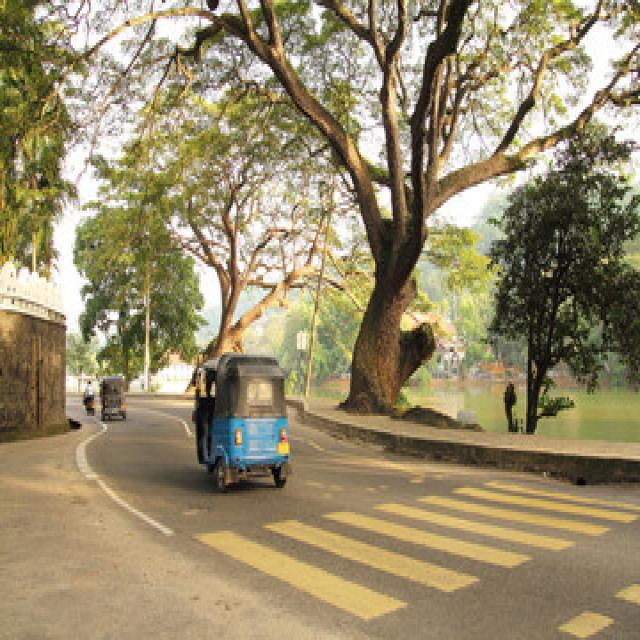three wheeler: (192, 355, 288, 491), (100, 376, 124, 419)
